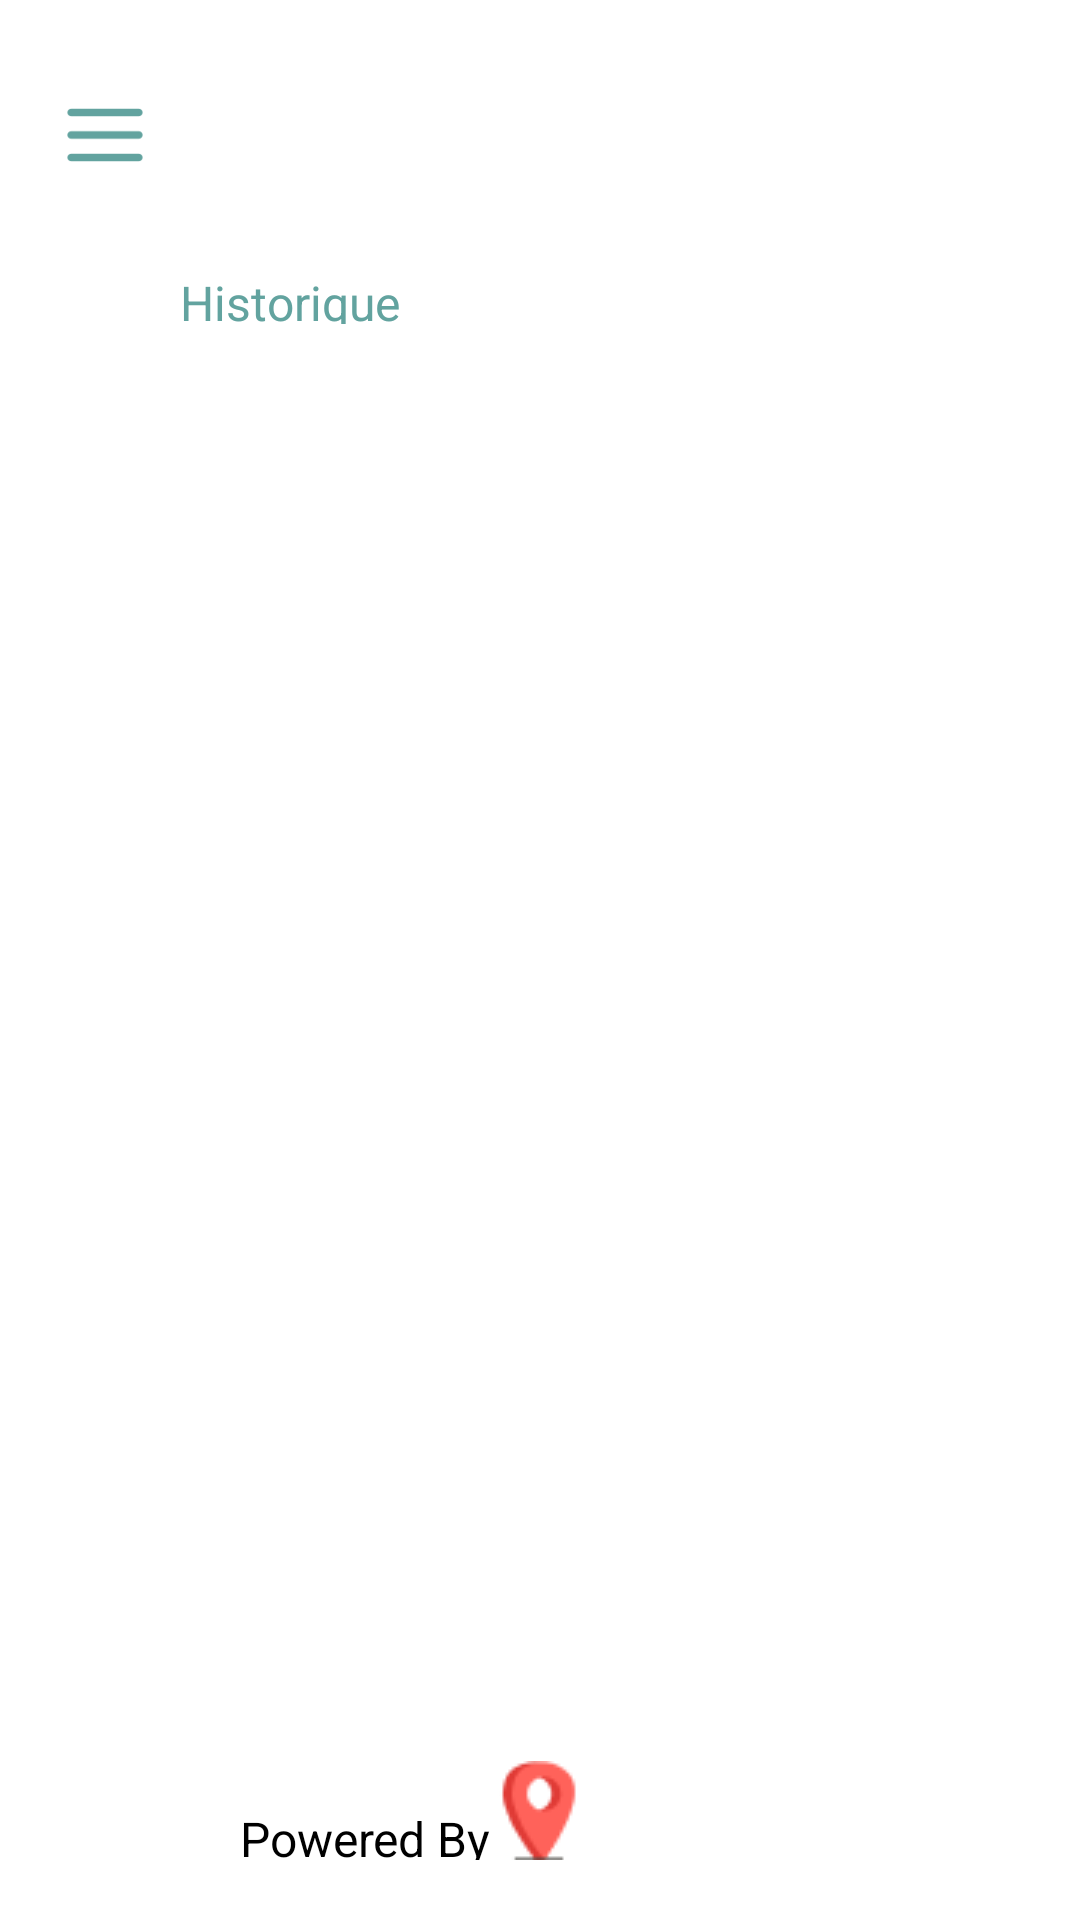

Point at icon controls on the screen. Image size 1080 x 1920, points as [x,y].
menu: [105,135]
